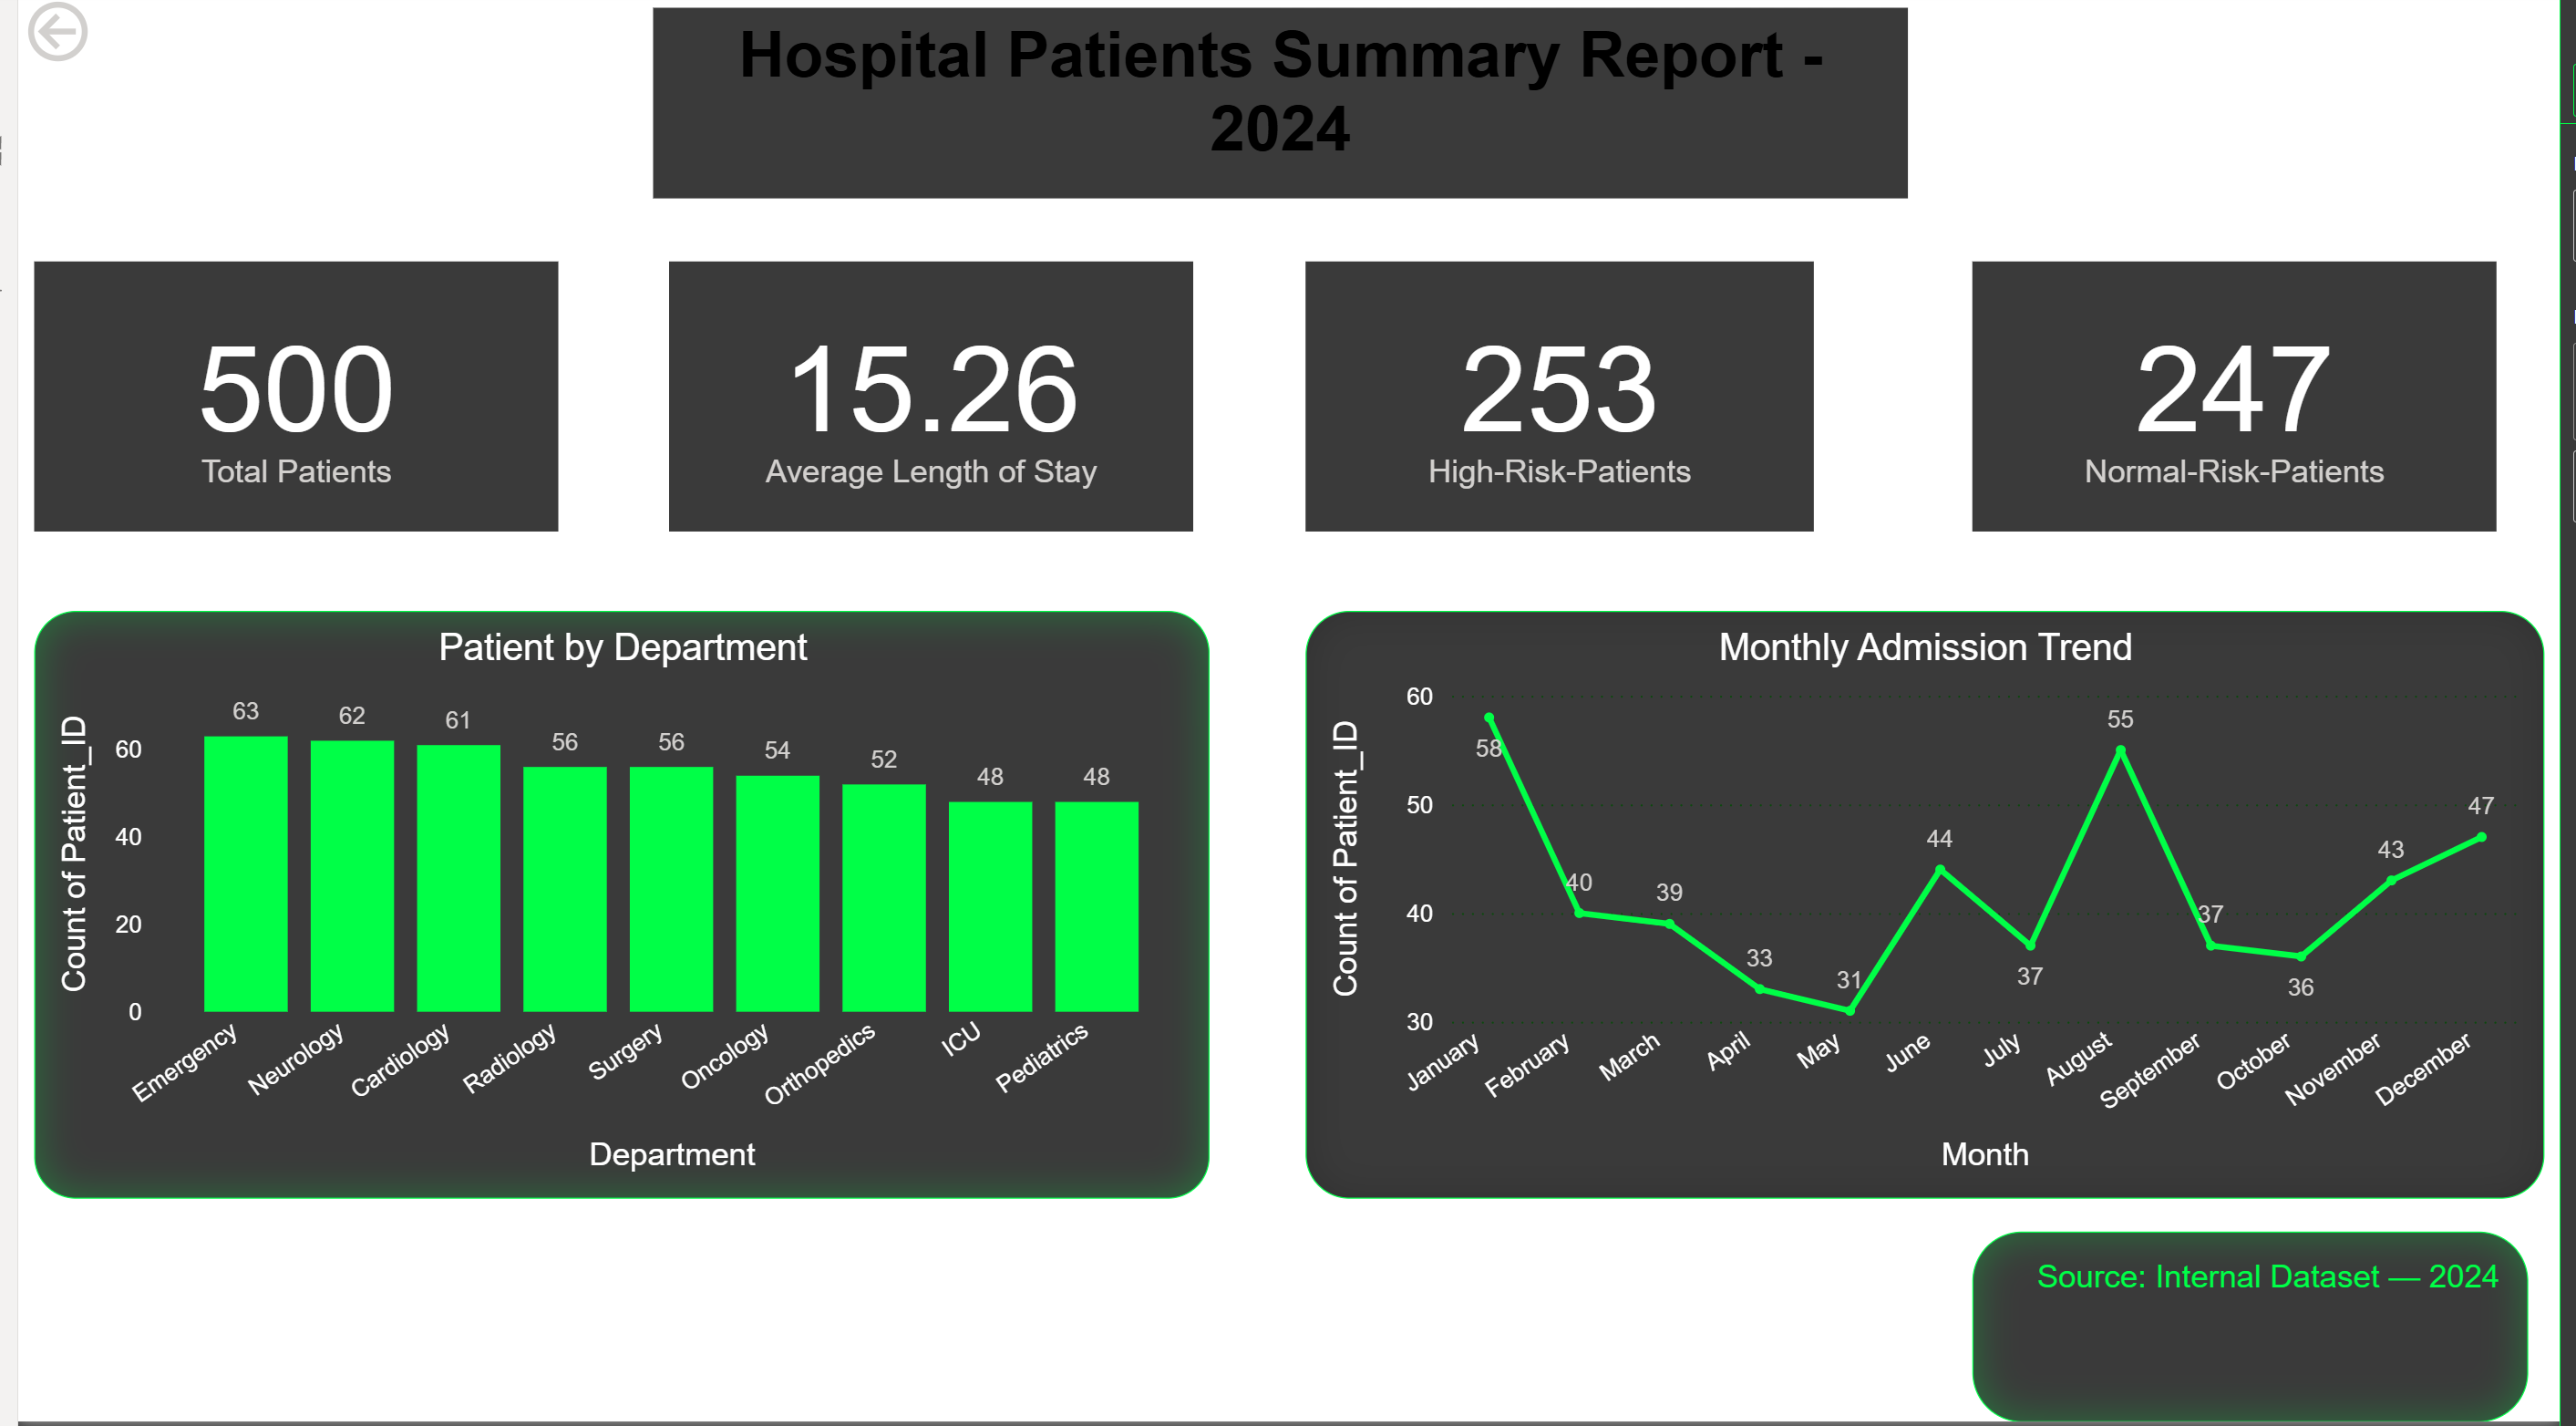

This screenshot's page, from the dashboard's own definition file:
{"tool":"powerbi","page":{"name":"Report","canvas":[1280,720],"ordinal":2},"visuals":[{"type":"actionButton","box":[0,0,100,40],"z":0},{"type":"textbox","box":[320,8,632,96],"z":1},{"type":"card","fields":{"Values":["Sheet1.Total Patients"]},"box":[8,136,264,136],"z":2},{"type":"card","fields":{"Values":["Sheet1.Average Length of Stay"]},"box":[328,136,264,136],"z":3},{"type":"card","title":"High- Risk Patients","fields":{"Values":["CountNonNull(Sheet1.Patient_ID)"]},"box":[648,136,256,136],"z":4},{"type":"card","title":"Normal - Risk Patients","fields":{"Values":["CountNonNull(Sheet1.Patient_ID)"]},"box":[984,136,264,136],"z":5},{"type":"clusteredColumnChart","title":"Patient by Department","fields":{"Category":["Sheet1.Department"],"Y":["CountNonNull(Sheet1.Patient_ID)"]},"box":[8,312,592,296],"z":6},{"type":"lineChart","title":"Monthly Admission Trend","fields":{"Category":["Sheet1.Admission_Date.Variation.Date Hierarchy.Month"],"Y":["CountNonNull(Sheet1.Patient_ID)"]},"box":[648,312,624,296],"z":7},{"type":"textbox","box":[984,624,280,96],"z":8}]}

Visuals, with their boxes in screenshot pixels (x1, y1, x2, y2), scaled from the page's 1280x720 canvas onto the 2576x1426 screenshot:
actionButton: region(0, 0, 201, 79)
textbox: region(644, 15, 1916, 206)
card - Sheet1.Total Patients: region(16, 269, 548, 539)
card - Sheet1.Average Length of Stay: region(660, 269, 1191, 539)
"High- Risk Patients" card: region(1304, 269, 1819, 539)
"Normal - Risk Patients" card: region(1980, 269, 2511, 539)
"Patient by Department" clusteredColumnChart: region(16, 618, 1208, 1204)
"Monthly Admission Trend" lineChart: region(1304, 618, 2560, 1204)
textbox: region(1980, 1235, 2544, 1425)
